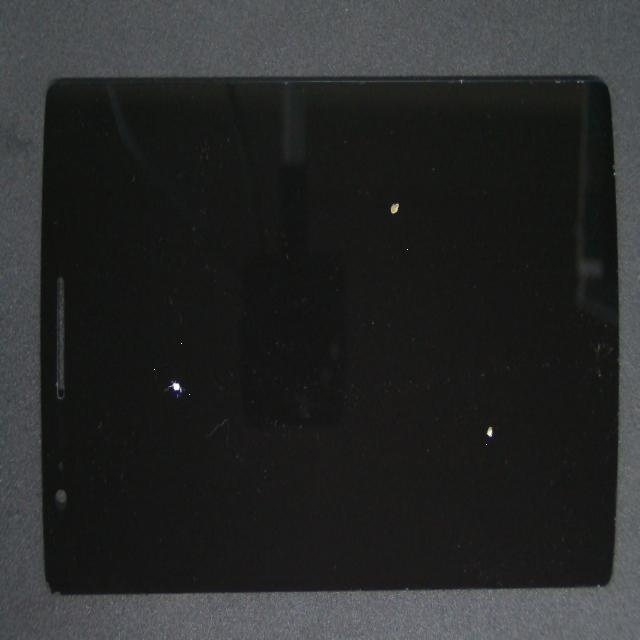stain: (245, 199, 640, 588), (187, 126, 564, 378), (36, 170, 233, 604)
